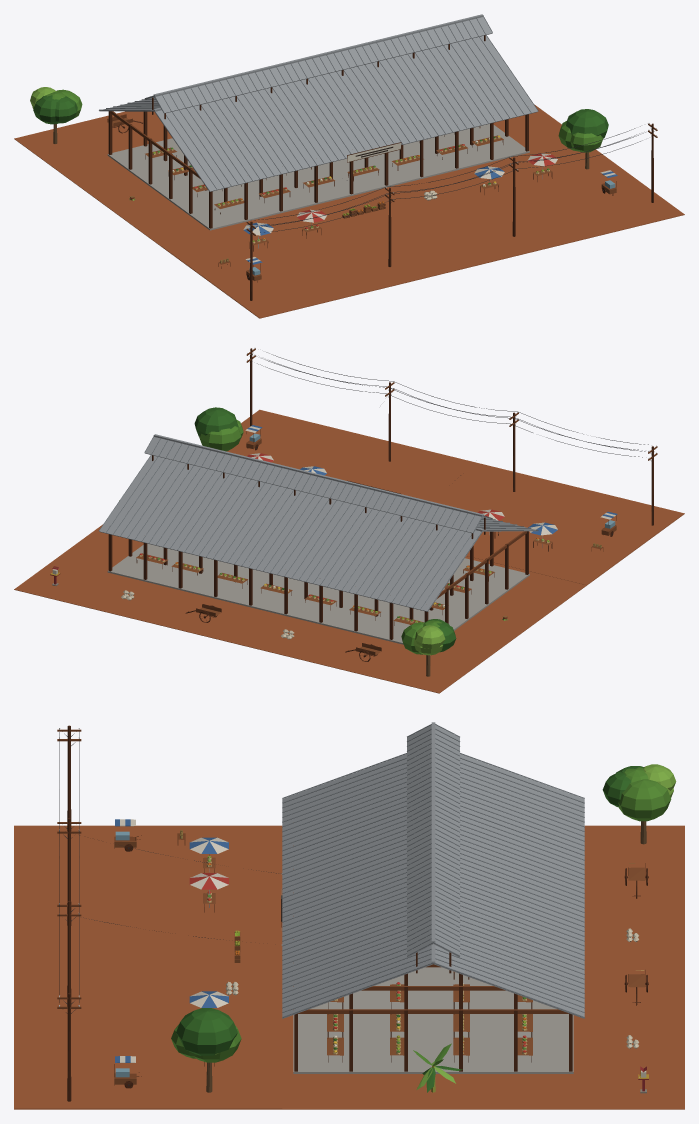
The model's file is market.glb.
3 renders of one model, top to bottom at view 1: azimuth 30°, elevation 25°; view 2: azimuth 150°, elevation 25°; view 3: azimuth 270°, elevation 25°, orthographic. The views are drawn at different scales.
Visible parts, largest first — view 1: body; view 2: body; view 3: body.
Part boxes in pixels (x1,y1,x2,y2): body: (14,14,684,318); body: (14,348,684,693); body: (14,722,684,1109).
Size of the model in its own units: 47.9 by 11.04 by 47.9.
